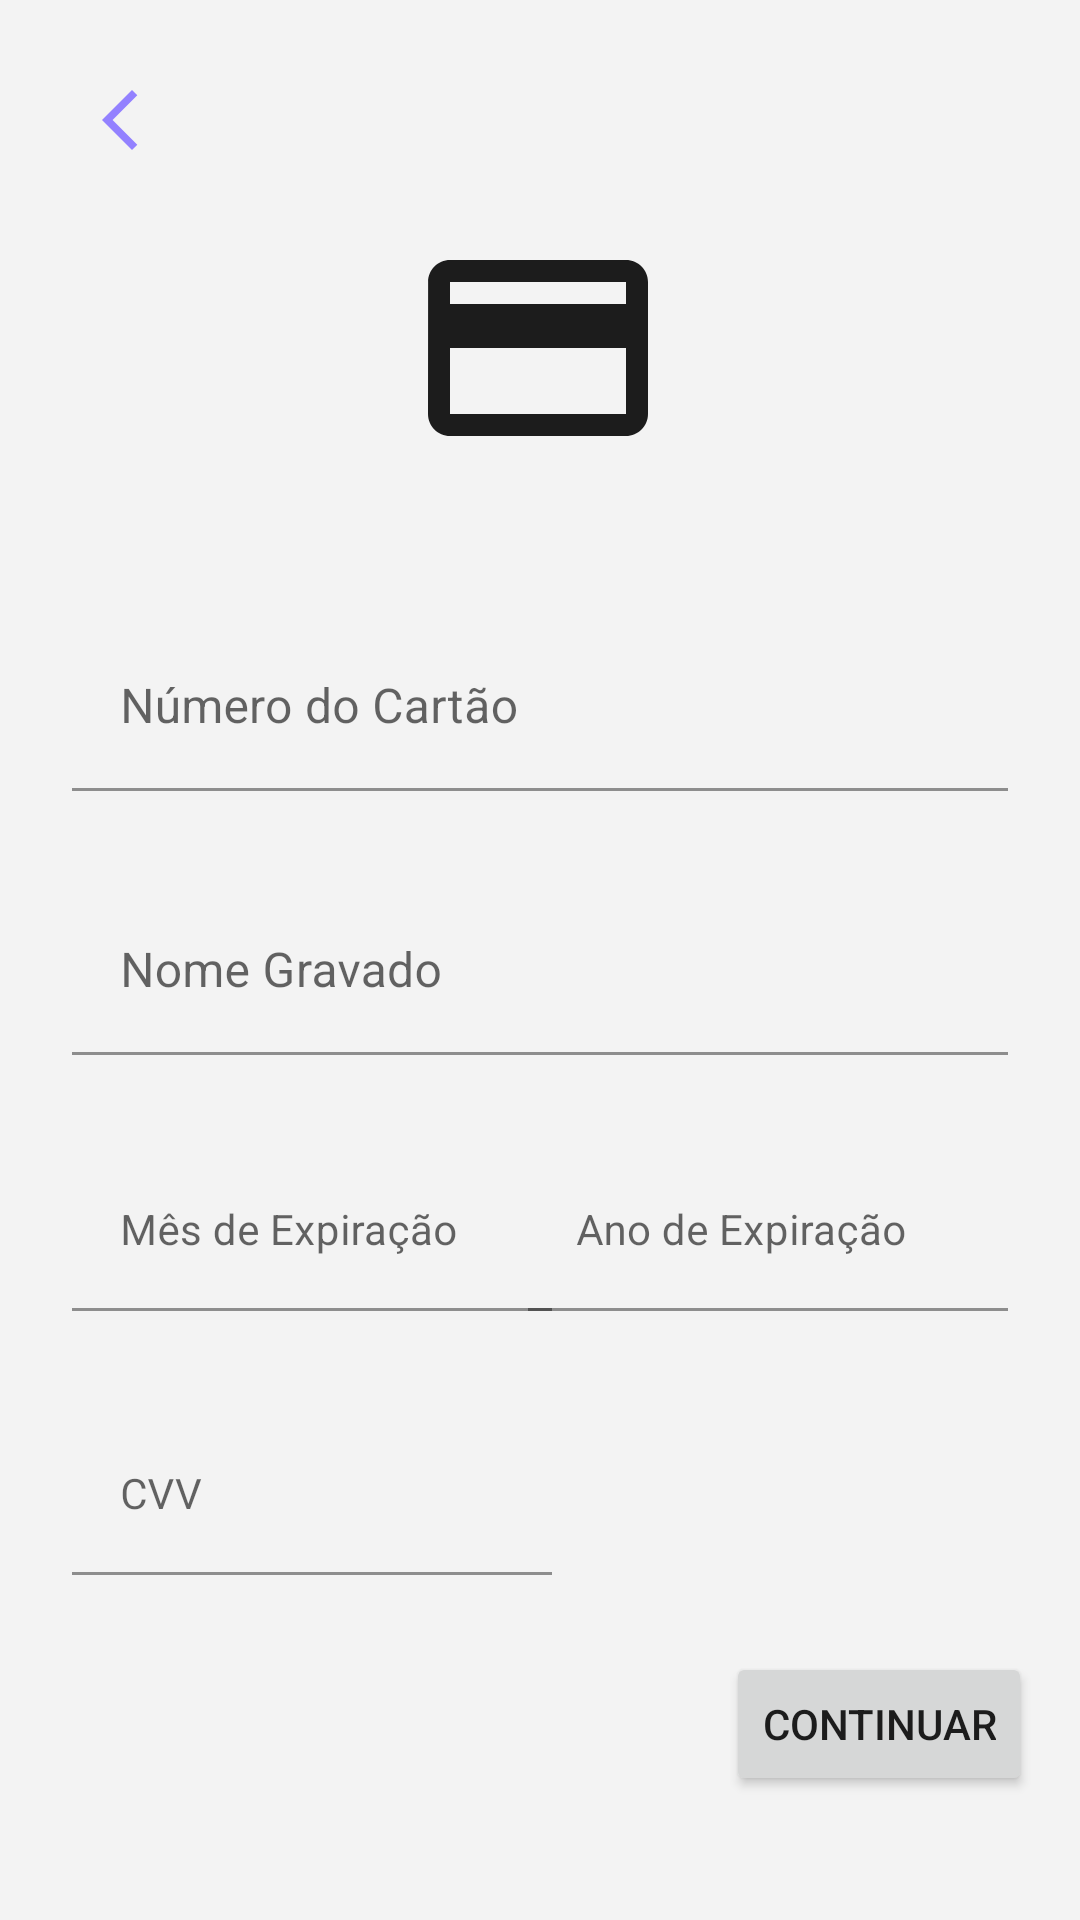

Icons on this 1080 × 1920 Android screen, each with its box as rect(x1, y1, x2, y2):
arrow left: rect(102, 90, 137, 150)
cartao preto: rect(428, 260, 648, 436)
